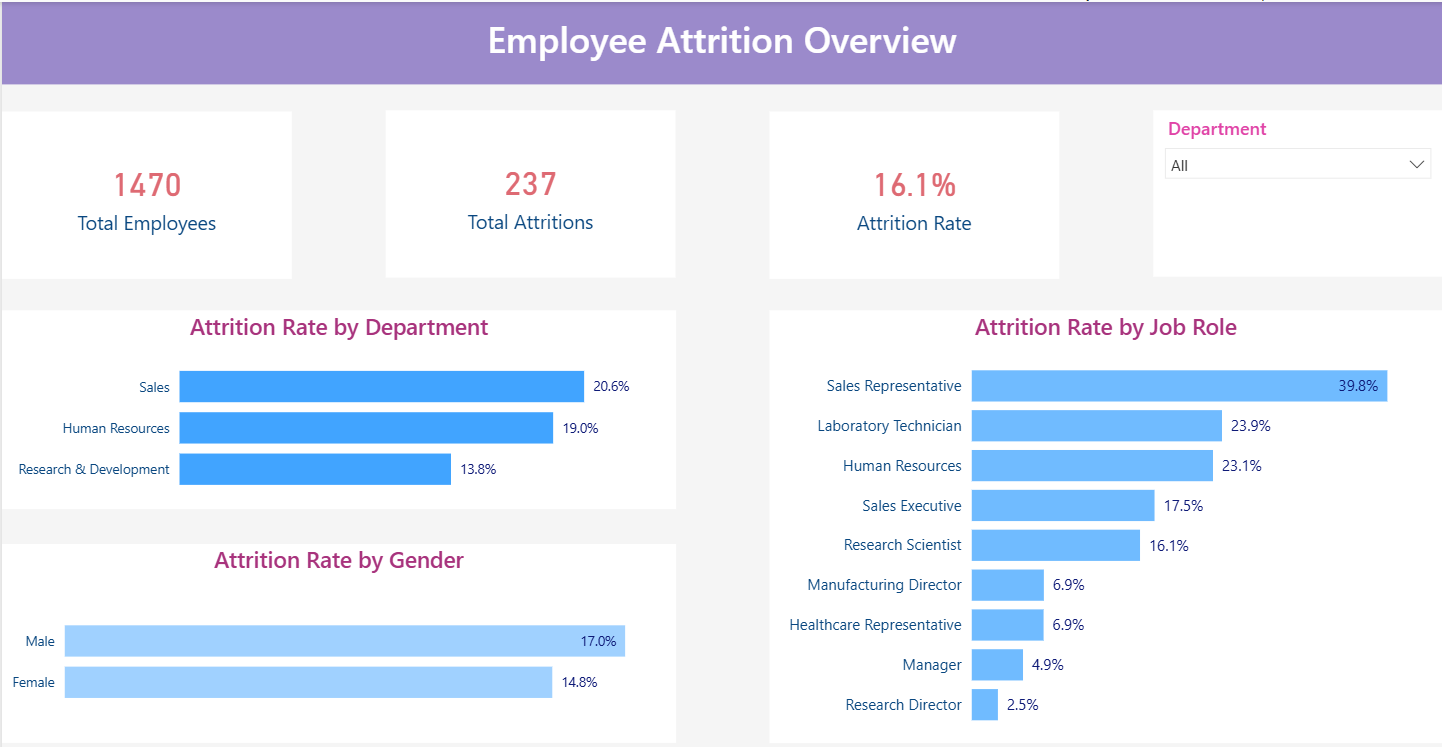

What the dashboard file says about the page in this screenshot:
{"tool":"powerbi","page":{"name":"Attrition Overview","canvas":[1280,720],"ordinal":0},"visuals":[{"type":"textbox","box":[0,0,1280,84.5],"z":0},{"type":"card","title":"Total Employees","fields":{"Values":["Measures Table.Total Employees"]},"box":[0,108.8,257.5,148.6],"z":1000},{"type":"card","title":"Total Employees","fields":{"Values":["Measures Table.Total Attritions"]},"box":[341,107.9,257.5,148.6],"z":2000},{"type":"card","title":"Total Employees","fields":{"Values":["Measures Table.Attrition Rate"]},"box":[682,108.8,257.5,148.6],"z":3000},{"type":"clusteredBarChart","fields":{"Category":["HR.Gender"],"Y":["Measures Table.Attrition Rate"]},"box":[0,493,598.9,176.7],"z":4000},{"type":"barChart","fields":{"Category":["HR.Department"],"Y":["Measures Table.Attrition Rate"]},"box":[0,285,598.9,176.7],"z":5000},{"type":"barChart","title":"Attrition Rate by Job Role","fields":{"Y":["Measures Table.Attrition Rate"],"Category":["HR.JobRole"]},"box":[682.2,285.6,597.8,384.4],"z":6000},{"type":"slicer","fields":{"Values":["HR.Department"]},"box":[1023,108,257,148],"z":7000}]}

Visuals, with their boxes on the page's 1280x720 design canvas (x1, y1, x2, y2). These are canvas units, not pixel positions in the 1442x747 screenshot, which may show the page scaled, cropped or inside an application window:
textbox: box(0, 0, 1280, 84)
"Total Employees" card: box(0, 109, 258, 257)
"Total Employees" card: box(341, 108, 598, 256)
"Total Employees" card: box(682, 109, 940, 257)
clusteredBarChart - HR.Gender x Measures Table.Attrition Rate: box(0, 493, 599, 670)
barChart - HR.Department x Measures Table.Attrition Rate: box(0, 285, 599, 462)
"Attrition Rate by Job Role" barChart: box(682, 286, 1280, 670)
slicer - HR.Department: box(1023, 108, 1280, 256)
